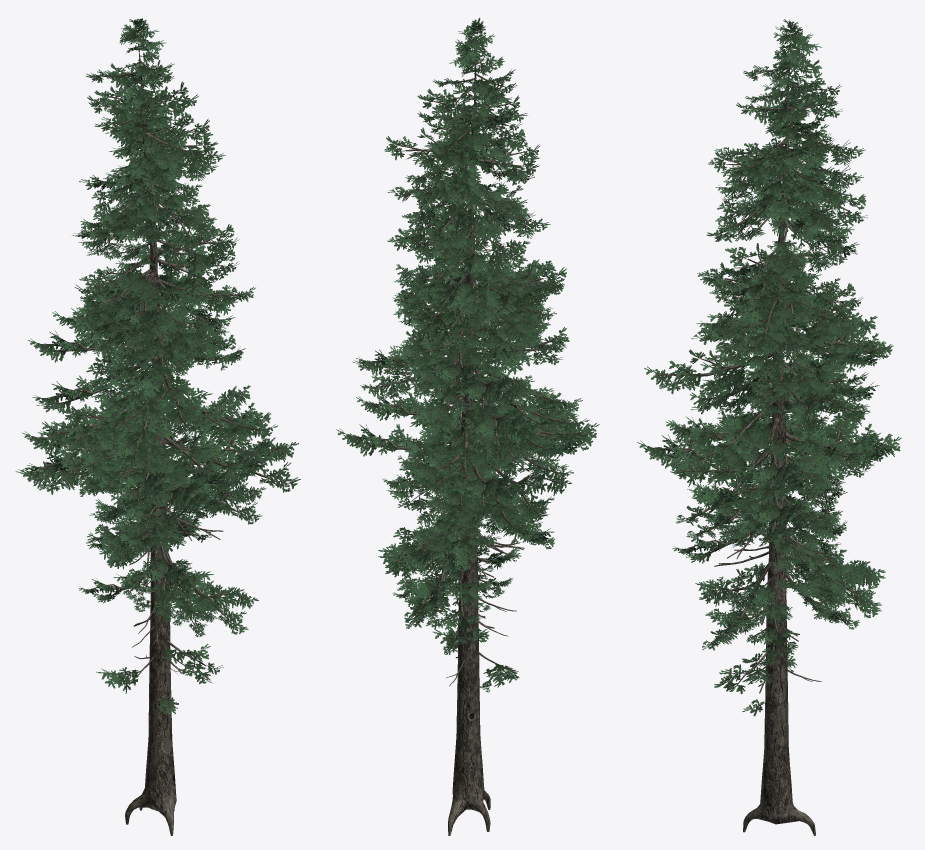
Rendered from Tree2-4.fbx.
3 renders of one model, left to right at view 1: azimuth 30°, elevation 25°; view 2: azimuth 150°, elevation 25°; view 3: azimuth 270°, elevation 25°, orthographic.
Parts seen in each view (by area): view 1: Tree2-4_LOD0; view 2: Tree2-4_LOD0; view 3: Tree2-4_LOD0.
Boxes of the visible parts, box(x1,y1,x2,y2) form: Tree2-4_LOD0: box(15, 18, 300, 835); Tree2-4_LOD0: box(336, 17, 599, 835); Tree2-4_LOD0: box(637, 19, 901, 835).
Size of what is drawn, in the model's own units: 5.51 by 5.35 by 17.4.
